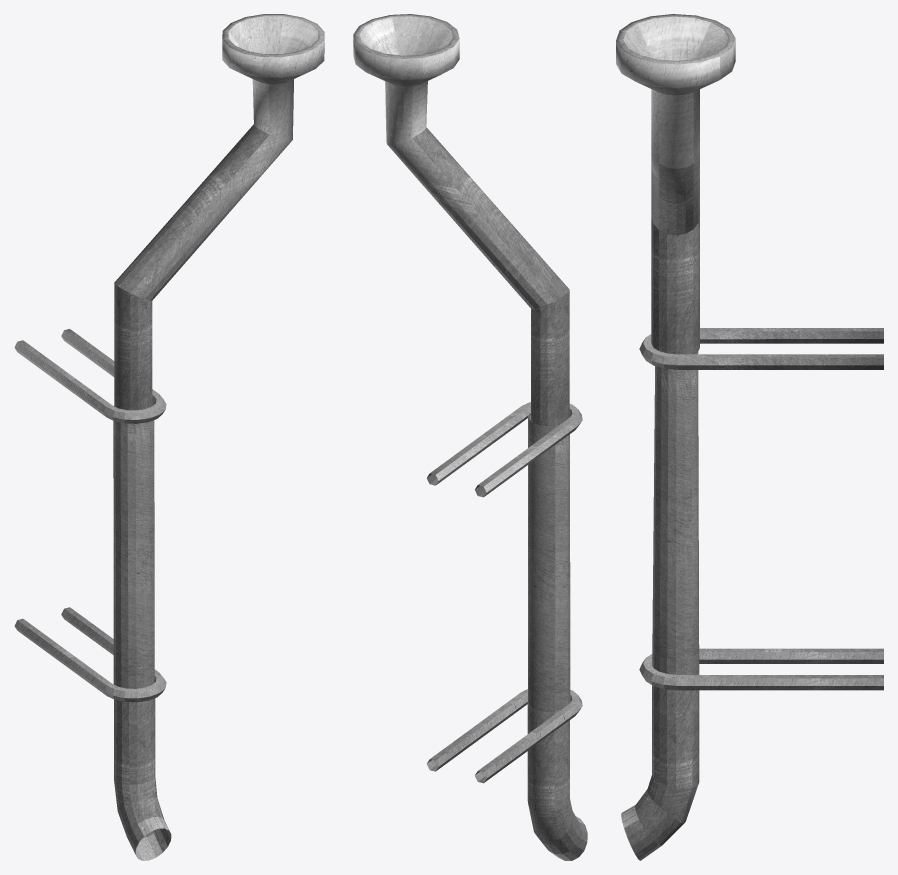
The model's file is Waterline_Collection.fbx.
3 renders of one model, left to right at view 1: azimuth 30°, elevation 25°; view 2: azimuth 150°, elevation 25°; view 3: azimuth 270°, elevation 25°, orthographic. The views are drawn at different scales.
Parts seen in each view (by area): view 1: Waterline_01_Start, Waterline_02_Middle, Waterline_03_End; view 2: Waterline_01_Start, Waterline_02_Middle, Waterline_03_End; view 3: Waterline_02_Middle, Waterline_01_Start, Waterline_03_End.
Part boxes in pixels (x1,y1,x2,y2): Waterline_01_Start: [114, 14, 324, 410]; Waterline_02_Middle: [14, 329, 166, 688]; Waterline_03_End: [14, 607, 171, 860]; Waterline_01_Start: [353, 14, 569, 426]; Waterline_02_Middle: [427, 402, 582, 711]; Waterline_03_End: [427, 689, 587, 860]; Waterline_02_Middle: [639, 328, 883, 674]; Waterline_01_Start: [616, 14, 735, 354]; Waterline_03_End: [621, 648, 883, 860].
Bounding box in the file's own units: 92.27 × 322 × 87.08.
1 material, 1 textured.
